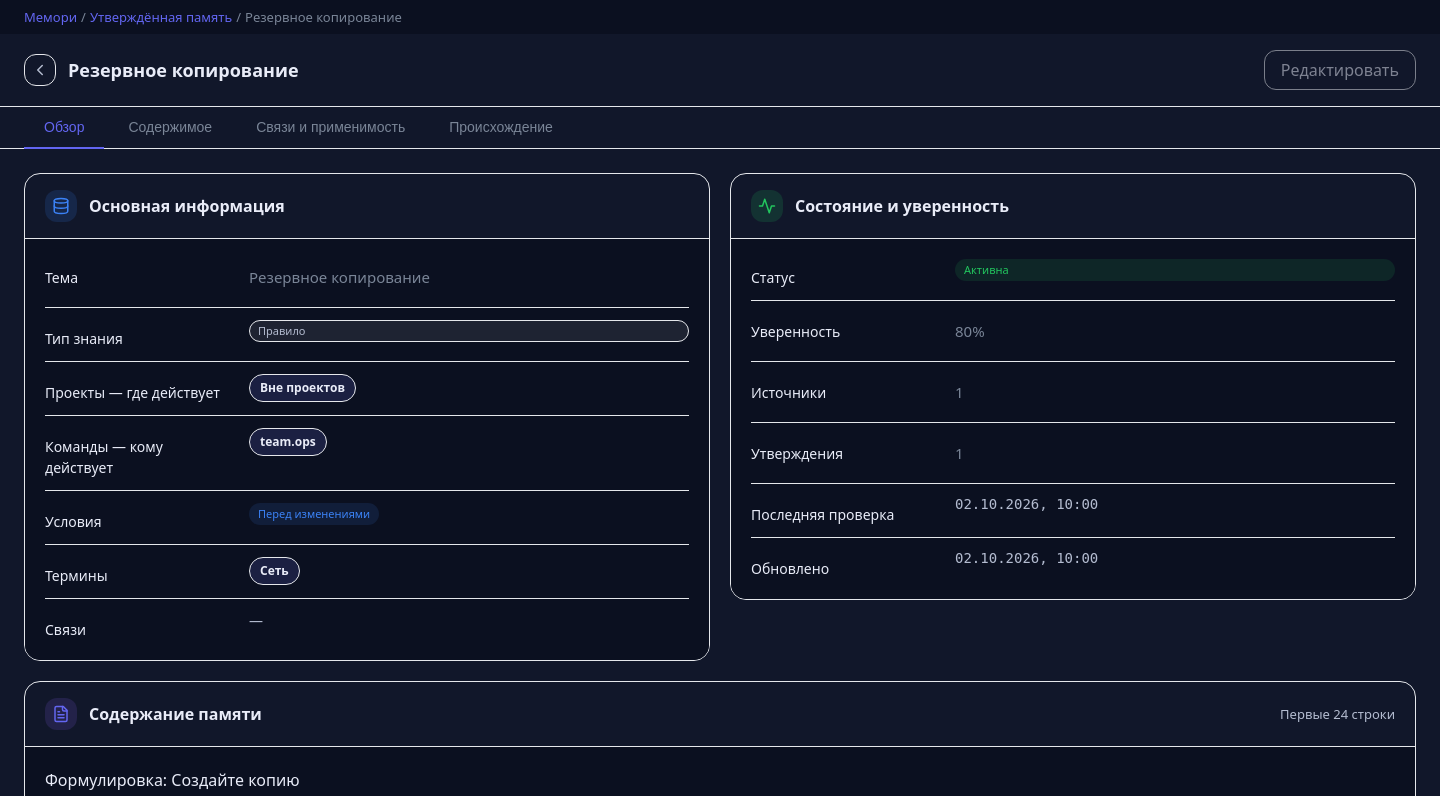
Общая карточка памяти › сохраняет введённые связи при ошибке сохранения
What coordinates should you click on to do the following:
click the button "Связи и применимость"
I would click on:
 (331, 128)
Its box is top-left (236, 107), bottom-right (425, 149).
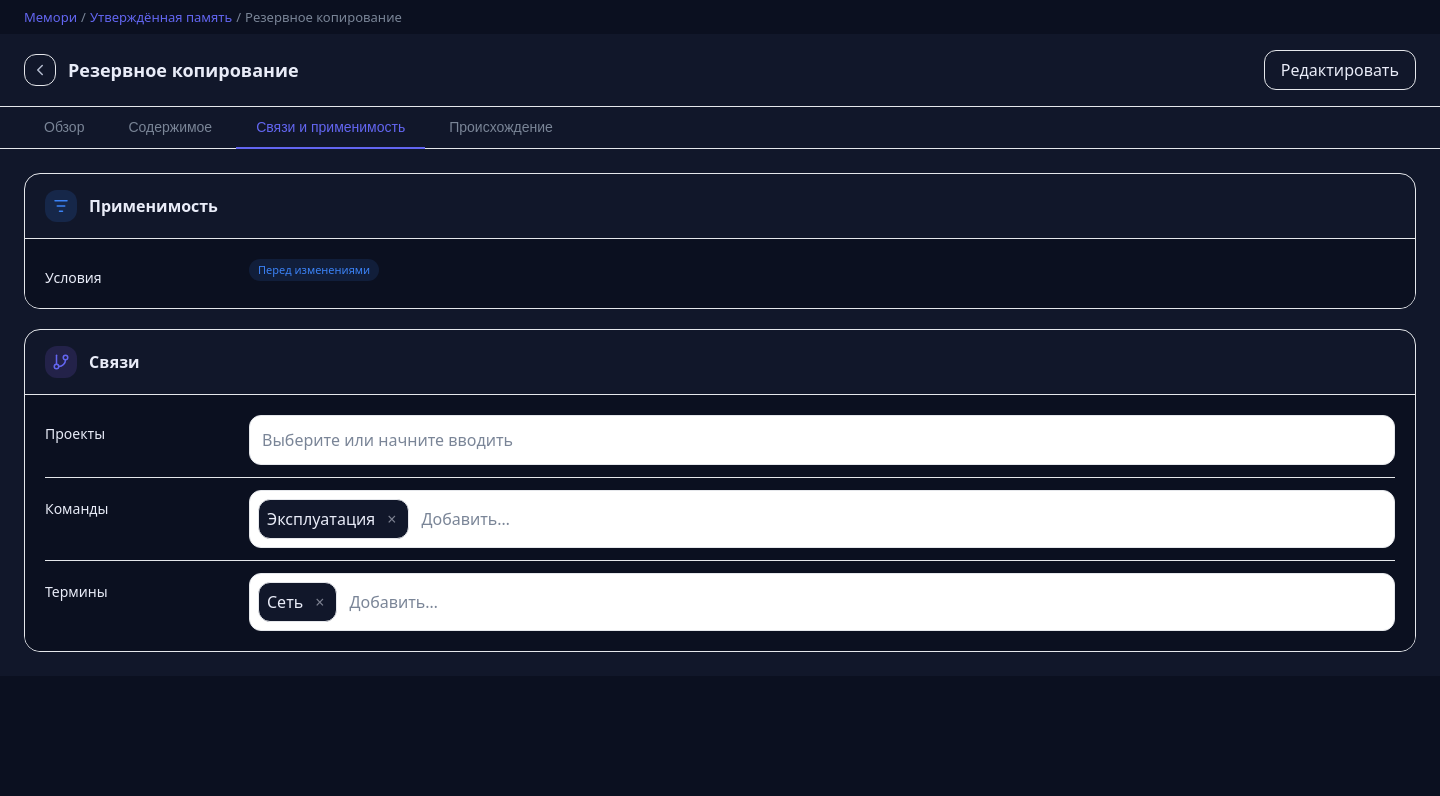
Check: the button "Редактировать" is enabled
What coordinates should you click on to do the following:
click the button "Редактировать"
I would click on:
 (1340, 70)
Its box is top-left (1264, 50), bottom-right (1416, 90).
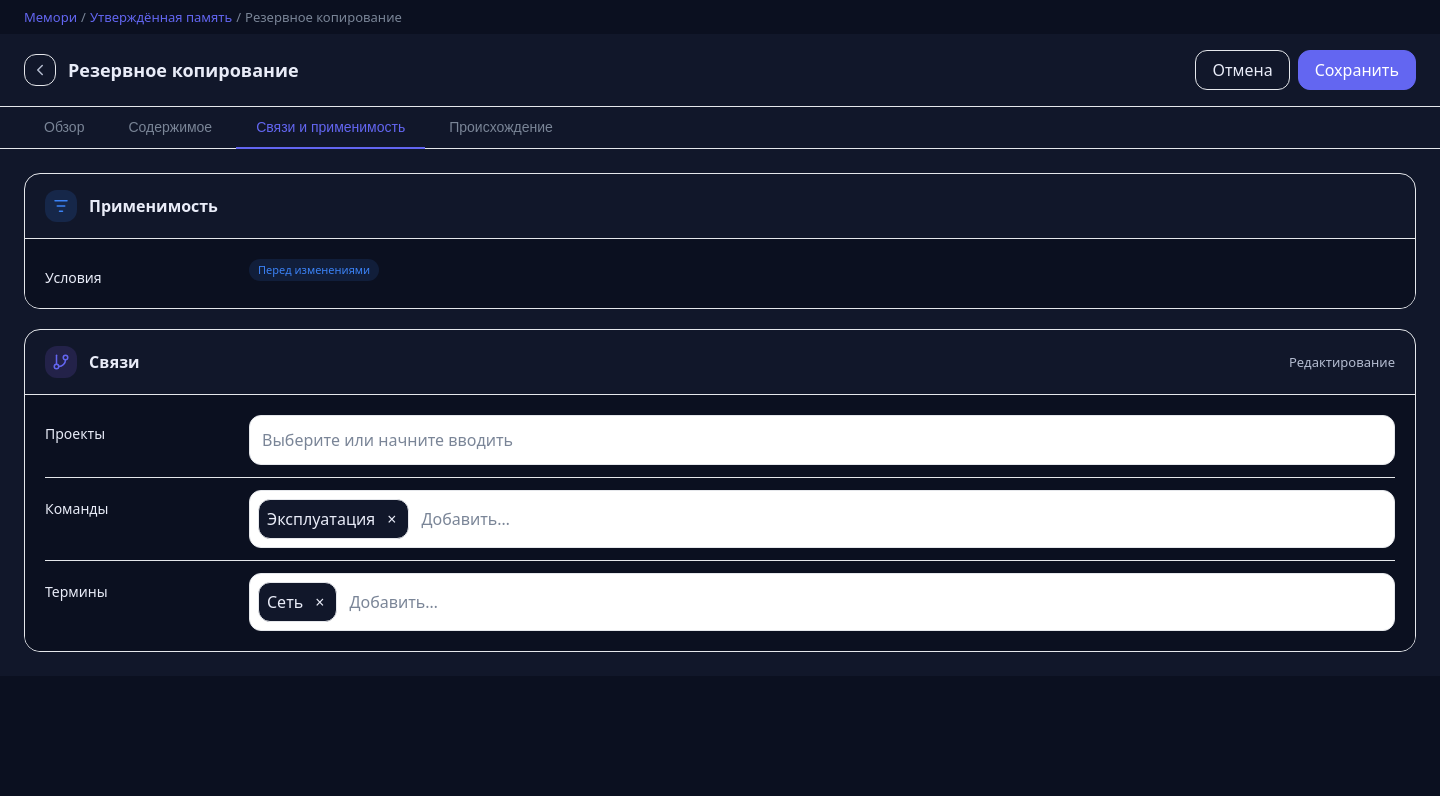
What coordinates should you click on to do the following:
click the button named "Убрать Сеть"
I would click on:
 (320, 602)
Its box is top-left (311, 587), bottom-right (328, 617).
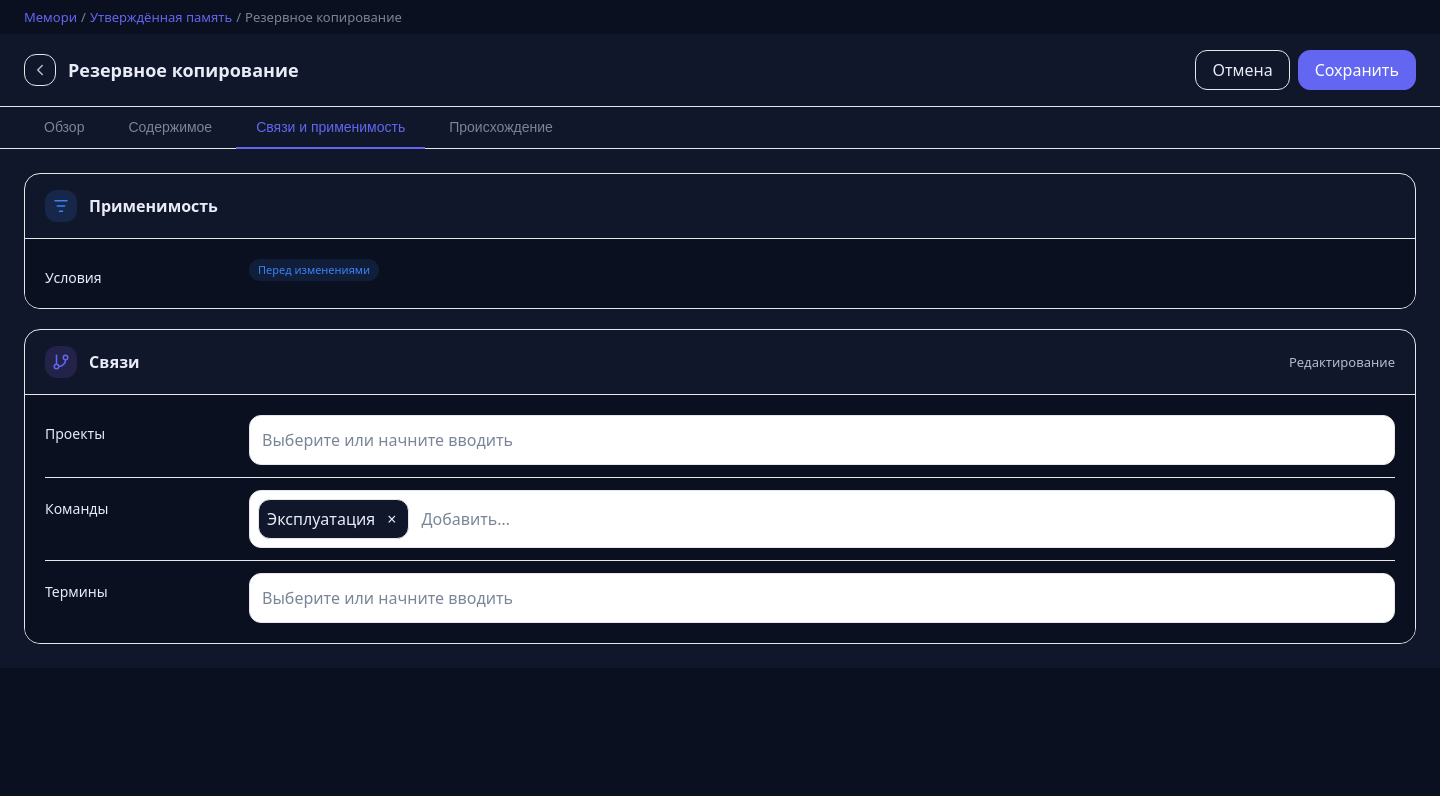
What coordinates should you click on to do the following:
click the button "Сохранить"
I would click on:
 (1357, 70)
Its box is top-left (1298, 50), bottom-right (1416, 90).
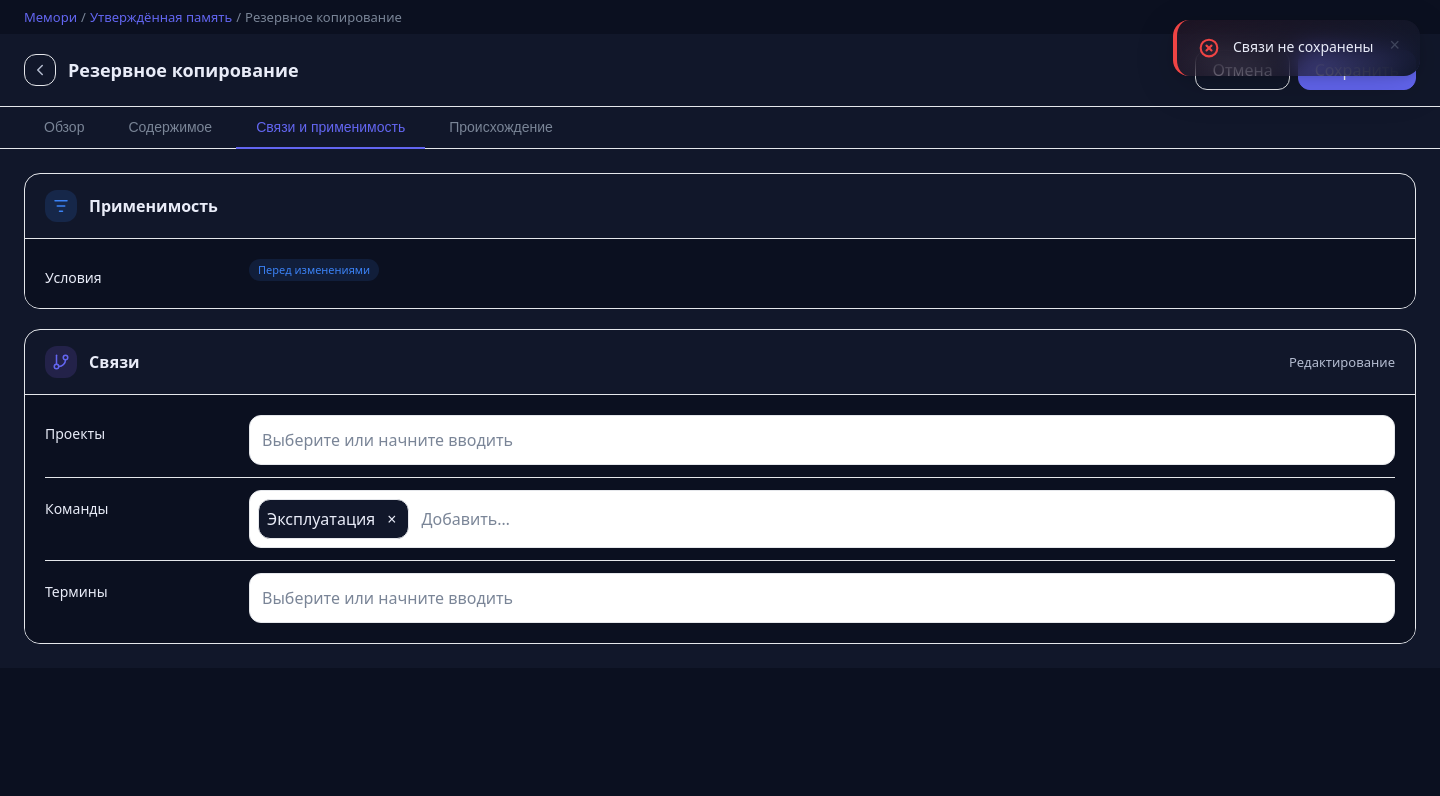
Check: the dropdown named "Термины" is enabled, box top-left (258, 582), bottom-right (1386, 614)
Check: the button "Сохранить" is enabled, box top-left (1298, 50), bottom-right (1416, 90)
Check: the text "Связи не сохранены" is shown, box top-left (1233, 36), bottom-right (1374, 57)
